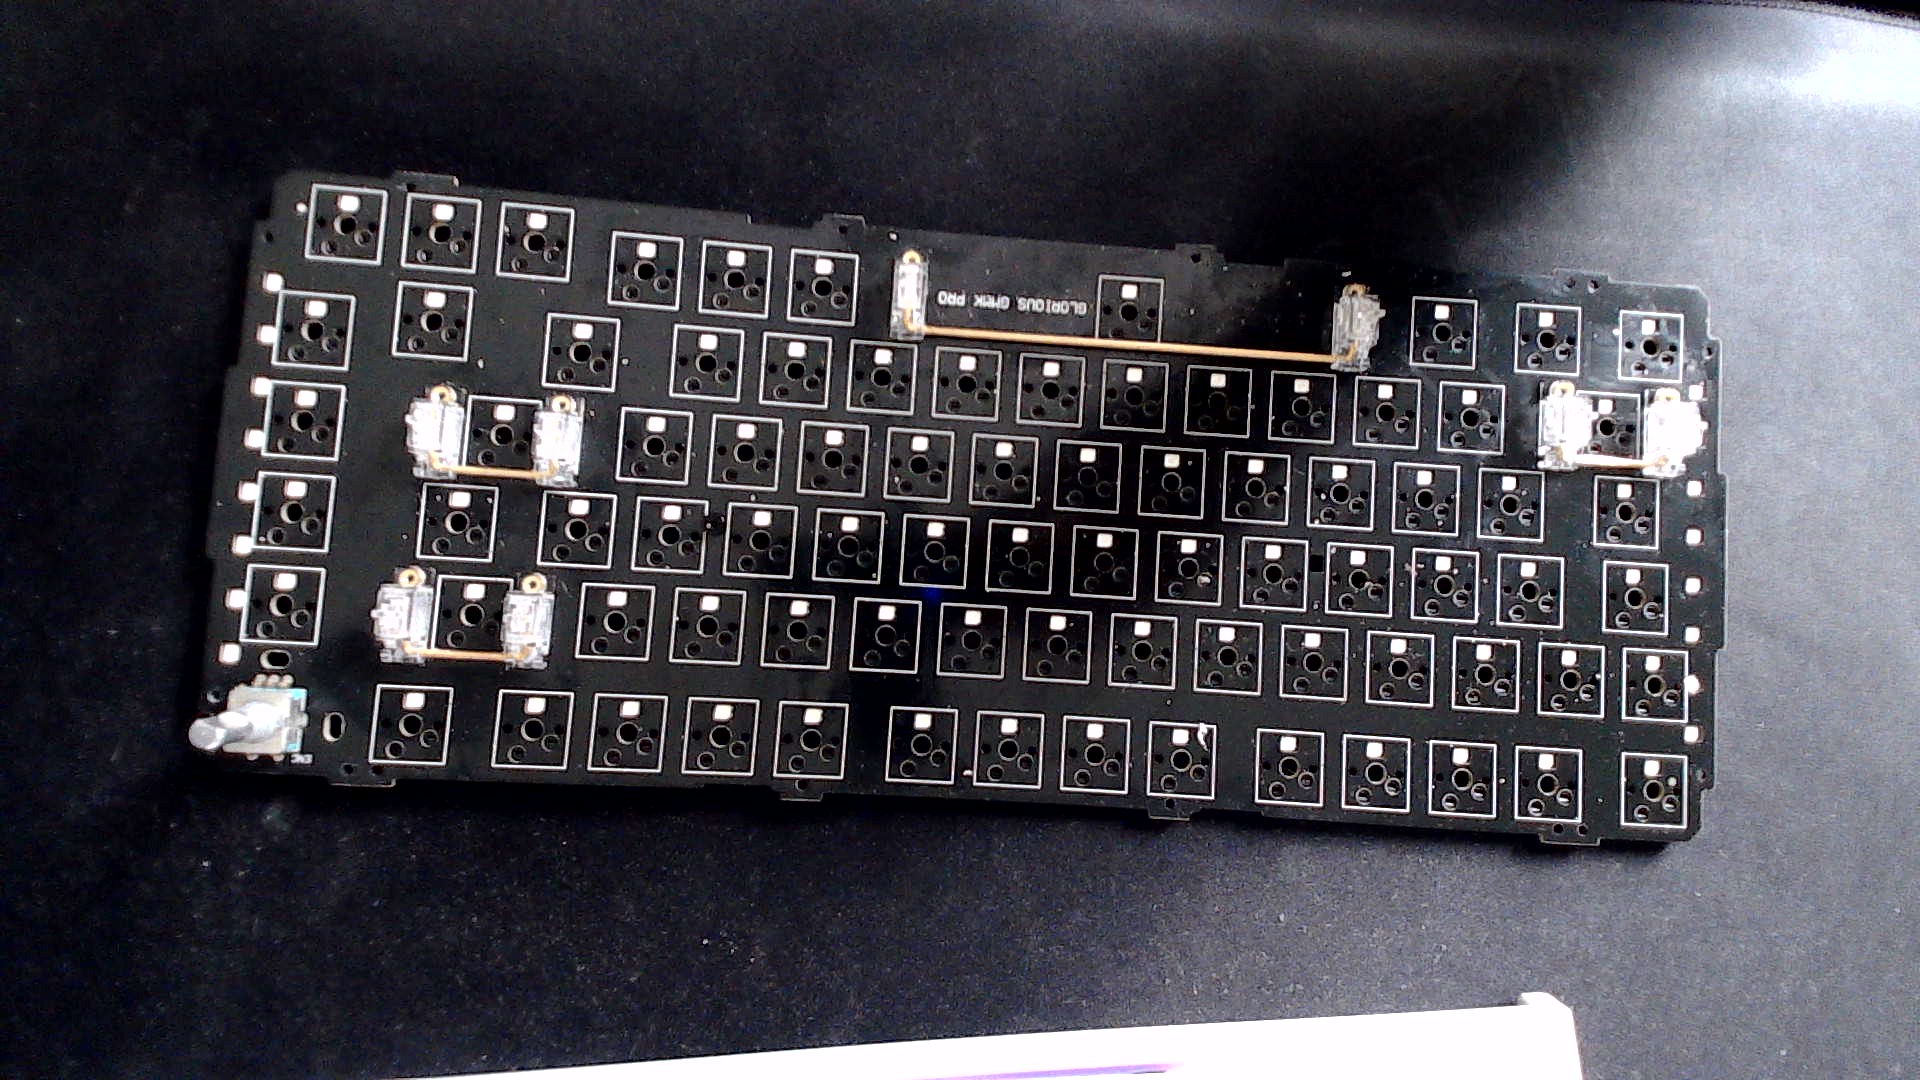pcb: (135, 119, 1747, 886)
